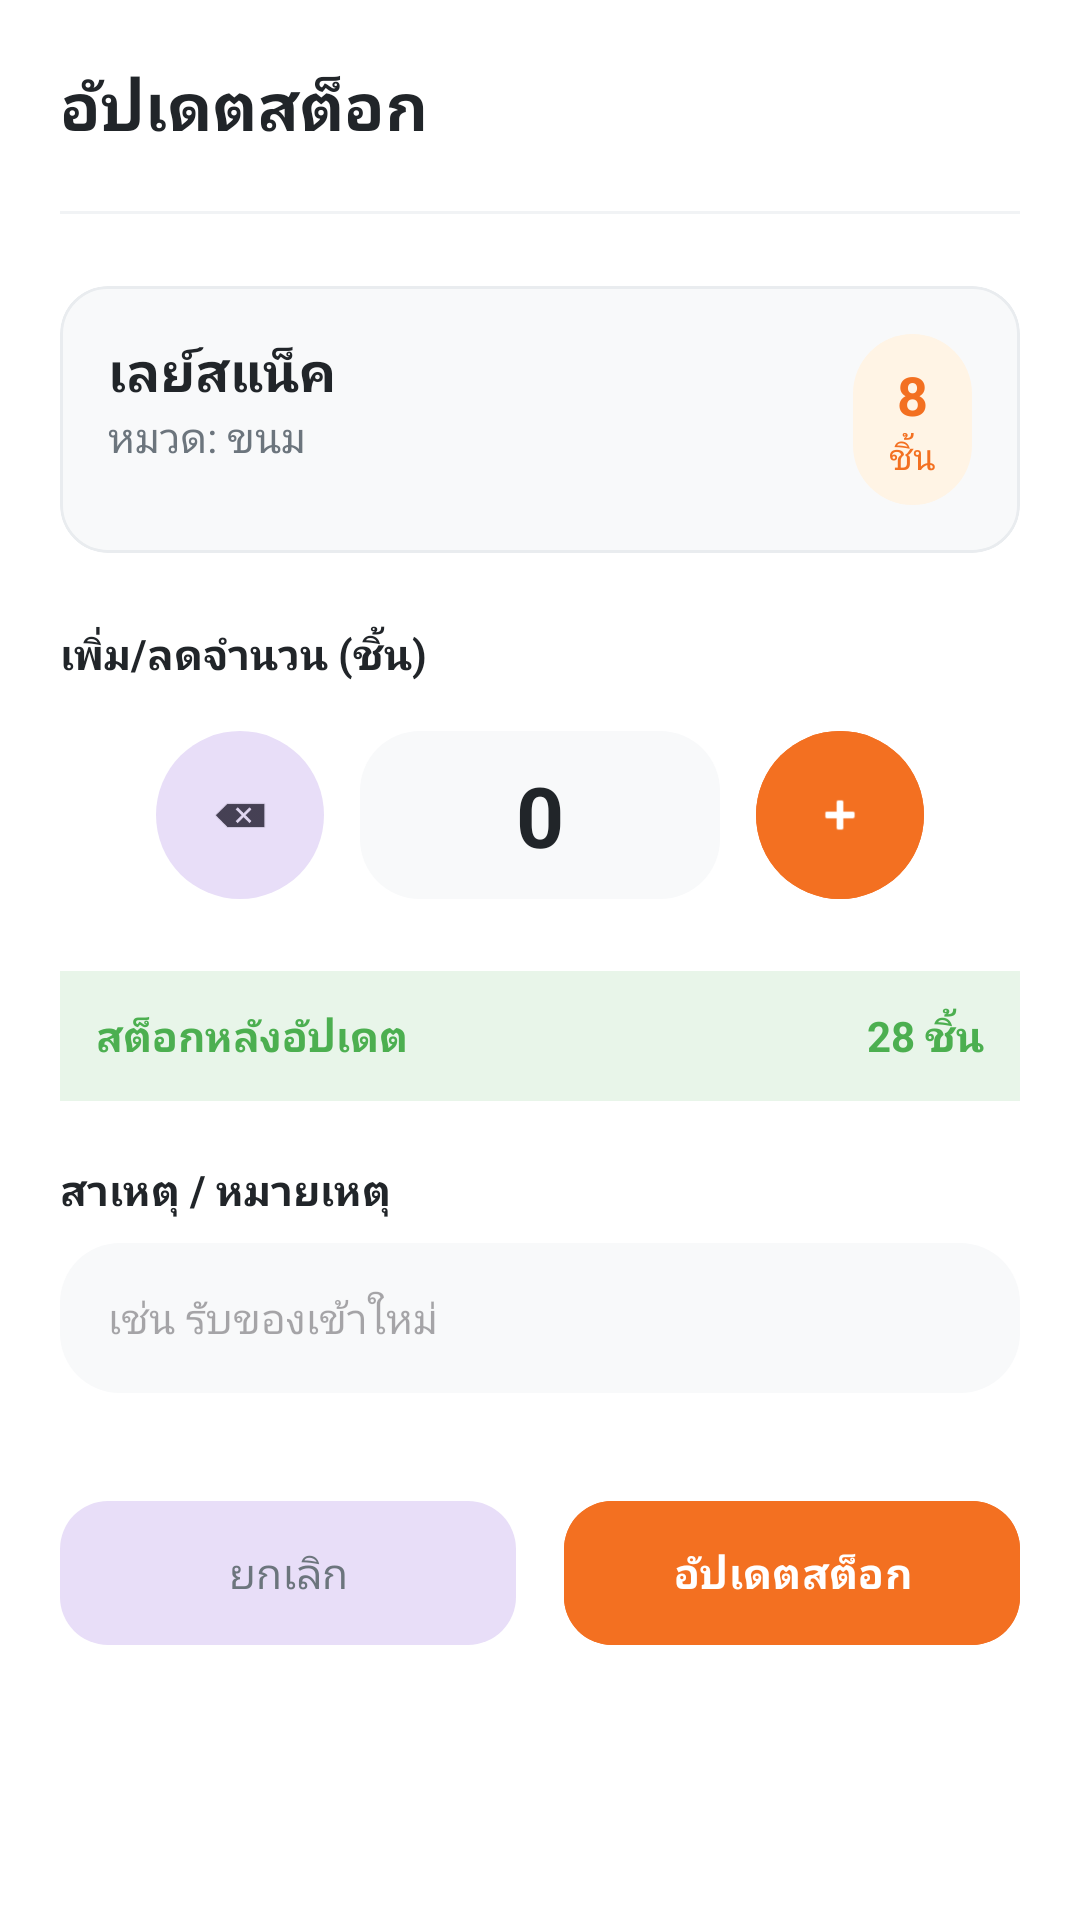

Where to tap for icons on this 1080*1920 app screen, as [x,y]:
เพิ่มจำนวน: [840,815]
